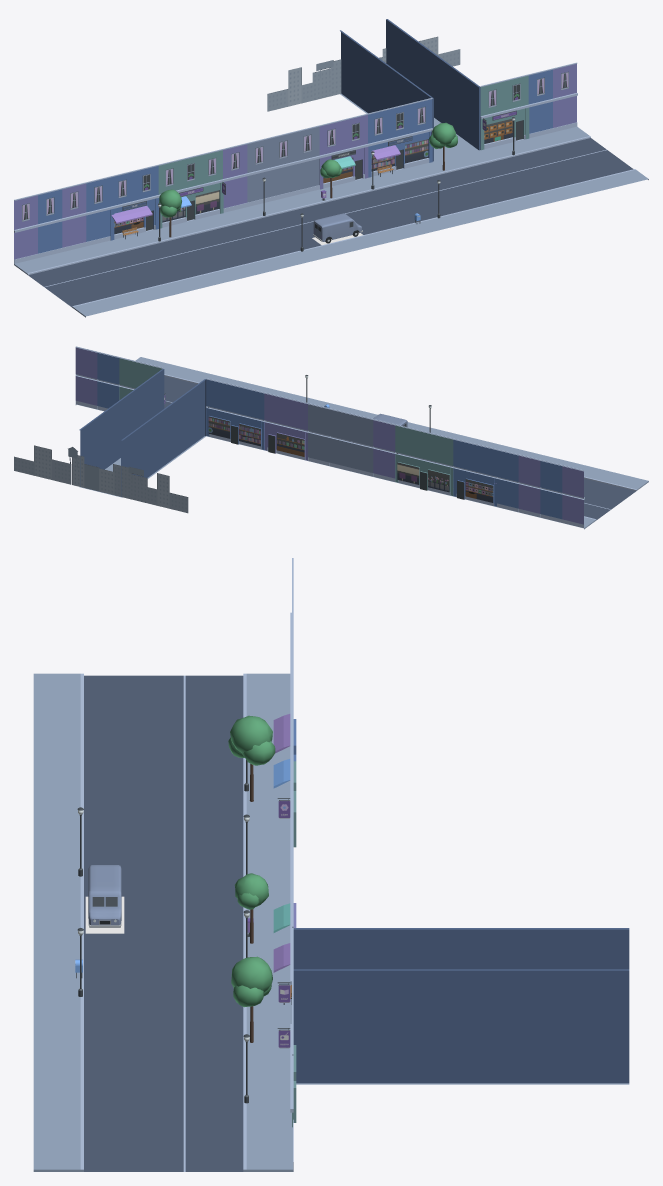
Rendered from Sokak_Yerlesim.obj.
3 renders of one model, top to bottom at view 1: azimuth 30°, elevation 25°; view 2: azimuth 150°, elevation 25°; view 3: azimuth 270°, elevation 25°, orthographic. The views are drawn at different scales.
Parts seen in each view (by area): view 1: ARCH_Sokak__Yol, ARCH_Sokak__AraSokak, ARCH_Sokak__Kaldirim_Karsi, ARCH_Sokak__Kaldirim_Yakin, SM_FarSilhouetteCard, SM_UpperFloor_8m_2, SM_UpperFloor_8m_1, SM_ShopFront_8m_Kitap_1, SM_ShopFront_6m_Radyo_1, SM_ShopFront_8m_Cicek_1, SM_UpperFloor_6m_3, SM_UpperFloor_6m_2 (+26 smaller); view 2: ARCH_Sokak__AraSokak, SM_FarSilhouetteCard, ARCH_Sokak__Kaldirim_Yakin, ARCH_Sokak__Yol, SM_ShopFront_8m_Cicek_1, SM_ShopFront_8m_Kitap_1, SM_UpperFloor_8m_1, SM_UpperFloor_8m_2, SM_ShopFront_6m_Plak_1, SM_ShopFront_6m_Oyuncak_1, SM_UpperFloor_6m_1, SM_UpperFloor_6m_2 (+22 smaller); view 3: ARCH_Sokak__Yol, ARCH_Sokak__AraSokak, ARCH_Sokak__Kaldirim_Yakin, ARCH_Sokak__Kaldirim_Karsi, SM_Van_Park, SM_Tree_A_1, SM_Tree_A_2, SM_Tree_B_1.
Boxes of the visible parts, box(x1,y1,x2,y2) form: ARCH_Sokak__Yol: box(28, 138, 633, 307); ARCH_Sokak__AraSokak: box(340, 19, 480, 161); ARCH_Sokak__Kaldirim_Karsi: box(14, 126, 590, 274); ARCH_Sokak__Kaldirim_Yakin: box(72, 169, 648, 317); SM_FarSilhouetteCard: box(267, 36, 460, 111); SM_UpperFloor_8m_2: box(368, 98, 432, 143); SM_UpperFloor_8m_1: box(158, 149, 223, 194); SM_ShopFront_8m_Kitap_1: box(368, 128, 432, 177); SM_ShopFront_6m_Radyo_1: box(480, 104, 529, 150); SM_ShopFront_8m_Cicek_1: box(159, 179, 223, 228); SM_UpperFloor_6m_3: box(480, 74, 528, 115); SM_UpperFloor_6m_2: box(319, 113, 368, 155); ARCH_Sokak__AraSokak: box(79, 369, 206, 497); SM_FarSilhouetteCard: box(14, 445, 188, 513); ARCH_Sokak__Kaldirim_Yakin: box(135, 357, 648, 491); ARCH_Sokak__Yol: box(164, 376, 635, 519); SM_ShopFront_8m_Cicek_1: box(395, 452, 453, 495); SM_ShopFront_8m_Kitap_1: box(206, 406, 264, 450); SM_UpperFloor_8m_1: box(395, 424, 453, 465); SM_UpperFloor_8m_2: box(206, 378, 264, 419); SM_ShopFront_6m_Plak_1: box(453, 466, 497, 506); SM_ShopFront_6m_Oyuncak_1: box(264, 420, 308, 460); SM_UpperFloor_6m_1: box(453, 438, 496, 476); SM_UpperFloor_6m_2: box(264, 392, 307, 430); ARCH_Sokak__Yol: box(84, 675, 243, 1171); ARCH_Sokak__AraSokak: box(293, 928, 629, 1084); ARCH_Sokak__Kaldirim_Yakin: box(33, 673, 83, 1171); ARCH_Sokak__Kaldirim_Karsi: box(243, 673, 293, 1171); SM_Van_Park: box(88, 865, 121, 927); SM_Tree_A_1: box(228, 715, 275, 801); SM_Tree_A_2: box(231, 956, 272, 1042); SM_Tree_B_1: box(234, 873, 268, 943).
Bounding box in the file's own units: 70 × 7.75 × 35.5.
